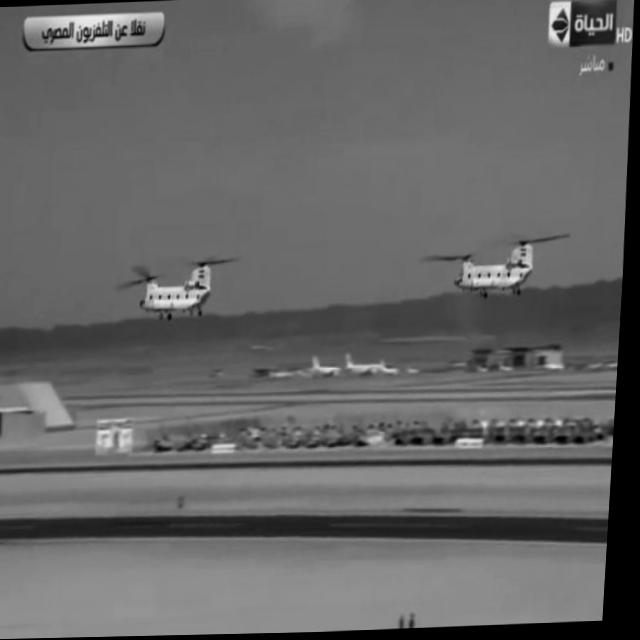helikopter: (429, 212, 567, 319), (125, 231, 238, 335)
